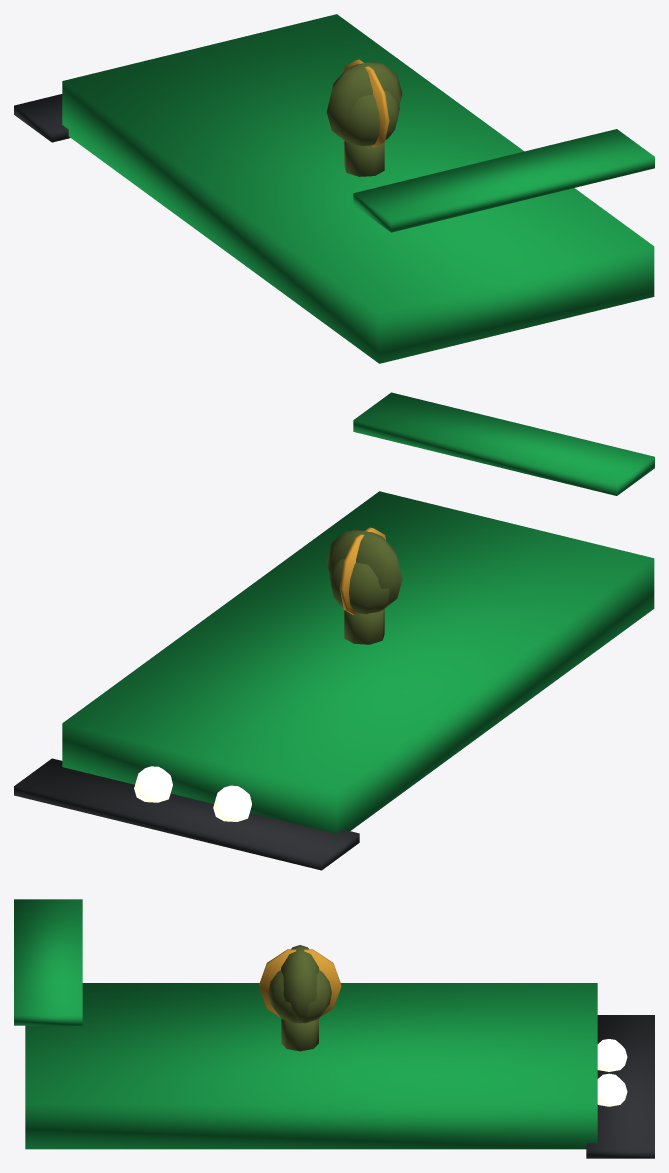
The model's file is formula_clean.glb.
3 views of the same model, one above another, from view 1: azimuth 30°, elevation 25°; view 2: azimuth 150°, elevation 25°; view 3: azimuth 270°, elevation 25° (orthographic). The views are drawn at different scales.
Visible parts, largest first — view 1: Formula; view 2: Formula; view 3: Formula.
Boxes of the visible parts, box(x1,y1,x2,y2) form: Formula: box(14, 14, 654, 363); Formula: box(14, 392, 654, 870); Formula: box(14, 899, 654, 1158).
Size of the model in its own units: 1.4 by 0.6874 by 2.8.
